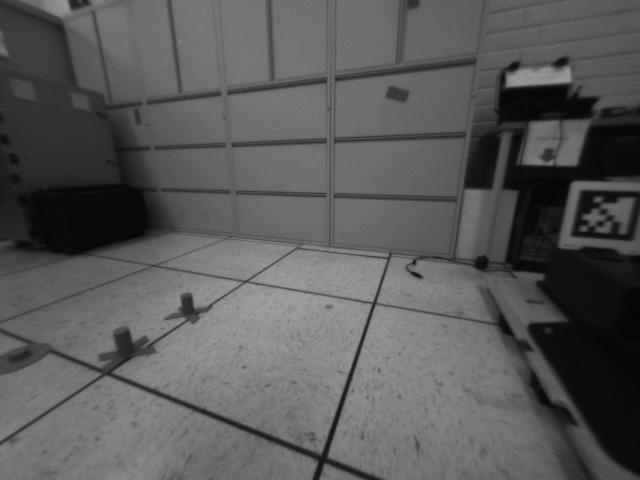X: (98, 326, 157, 372), (164, 293, 212, 325)
